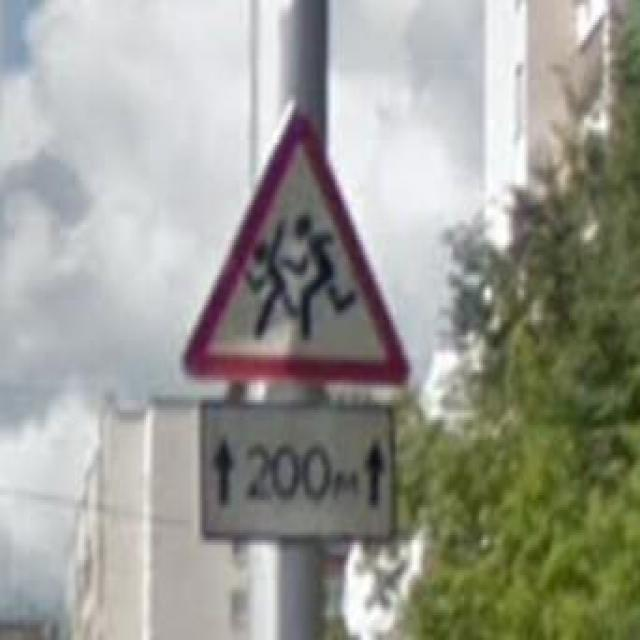traffic_sign: (182, 98, 412, 388)
